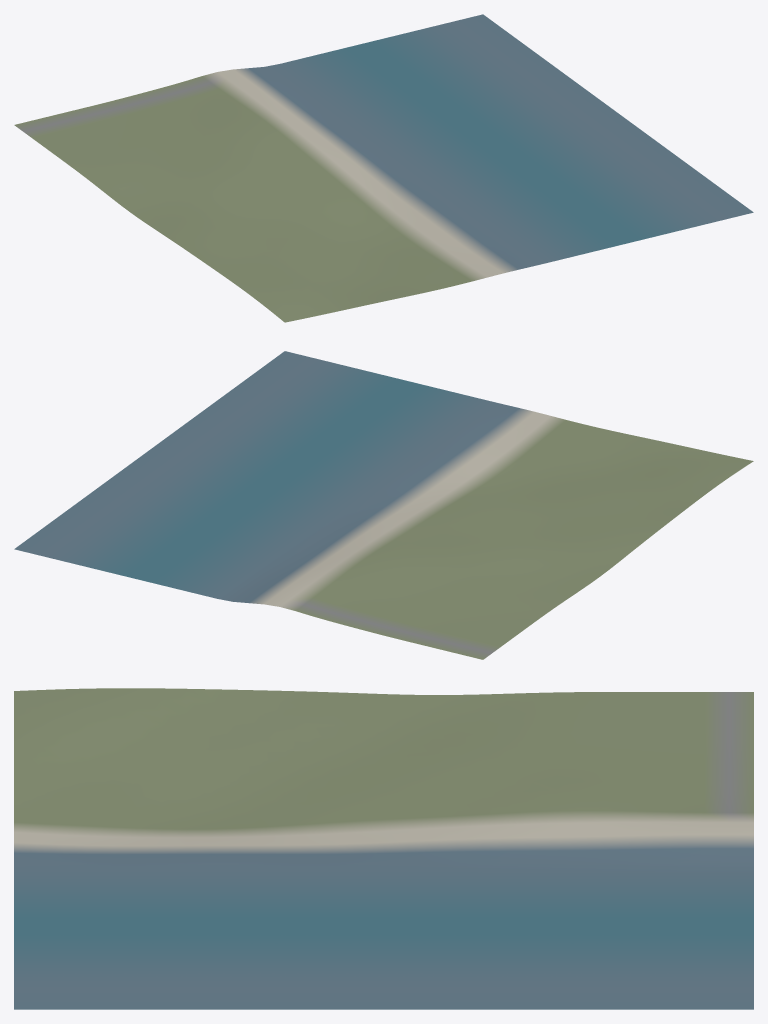
3 renders of one model, top to bottom at view 1: azimuth 30°, elevation 25°; view 2: azimuth 150°, elevation 25°; view 3: azimuth 270°, elevation 25°, orthographic. The views are drawn at different scales.
Bounding box in the file's own units: 300 × 8.67 × 300.
